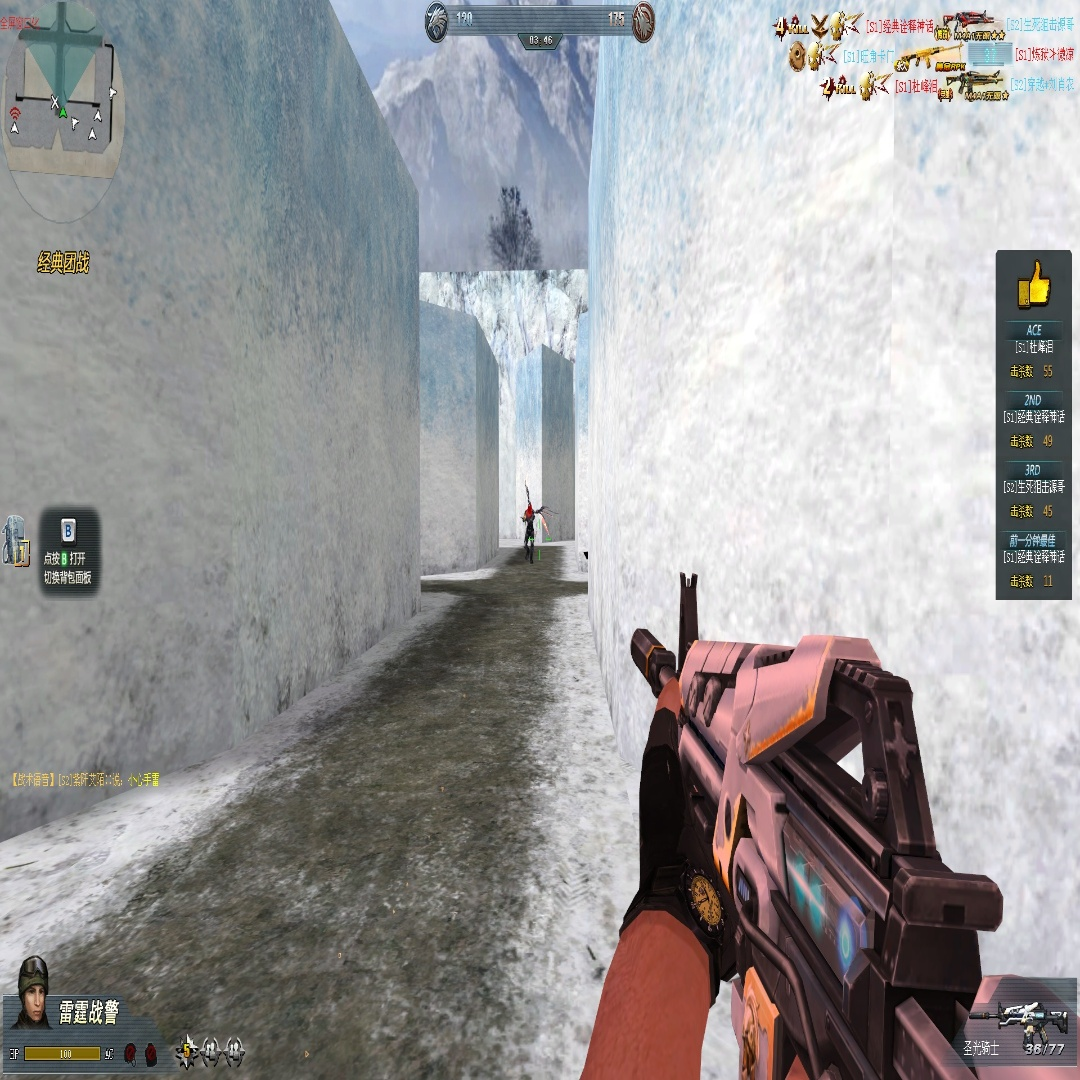t: (524, 502, 537, 564)
